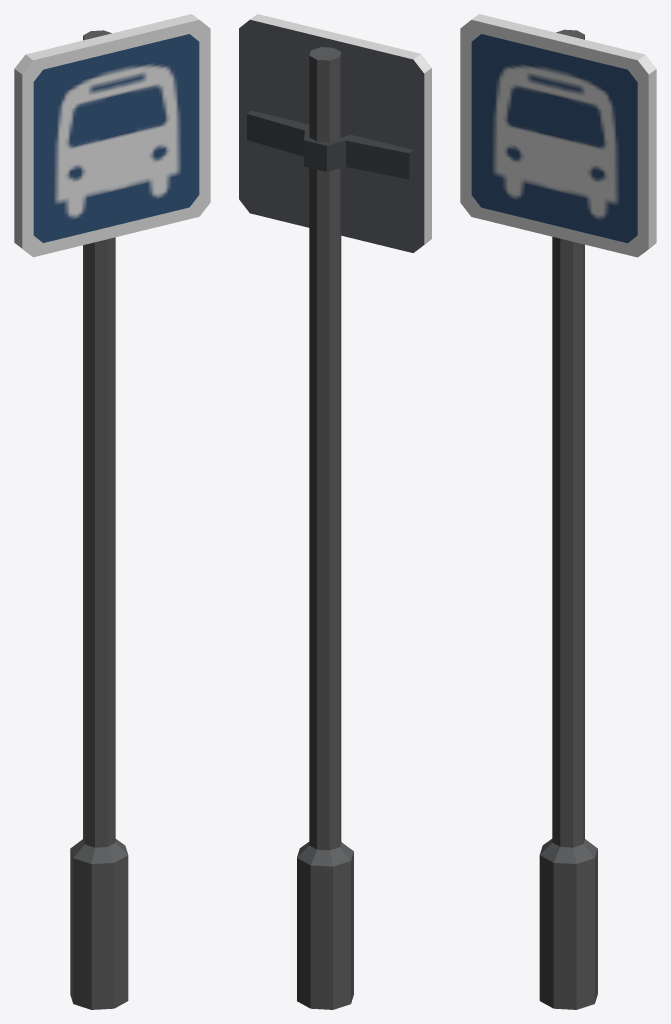
The model's file is SM_Prop_Sign_BusStop_01.fbx.
The picture shows the model from 3 angles, left to right: view 1: azimuth 30°, elevation 25°; view 2: azimuth 150°, elevation 25°; view 3: azimuth 330°, elevation 25°; orthographic projection.
Visible parts, largest first — view 1: SM_Prop_Sign_BusStop_01; view 2: SM_Prop_Sign_BusStop_01; view 3: SM_Prop_Sign_BusStop_01.
Part boxes in pixels (<box>): SM_Prop_Sign_BusStop_01: <box>14,14,210,1009</box>; SM_Prop_Sign_BusStop_01: <box>239,14,431,1009</box>; SM_Prop_Sign_BusStop_01: <box>460,14,656,1009</box>.
Bounding box in the file's own units: 42.88 × 211 × 12.11.
